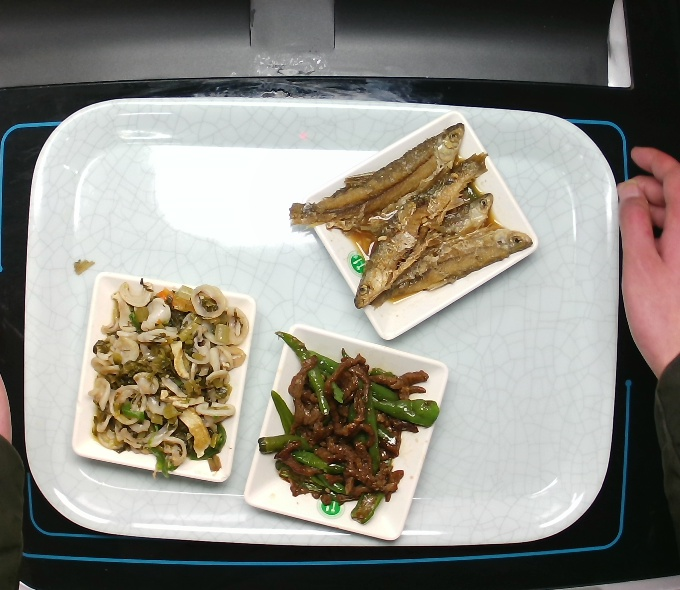wcq-QingJiaoNiuRou: (253, 334, 454, 535)
wcq-XiaoXiYu: (278, 115, 541, 312)
wcq-XueCaiYouYu: (80, 278, 251, 474)
